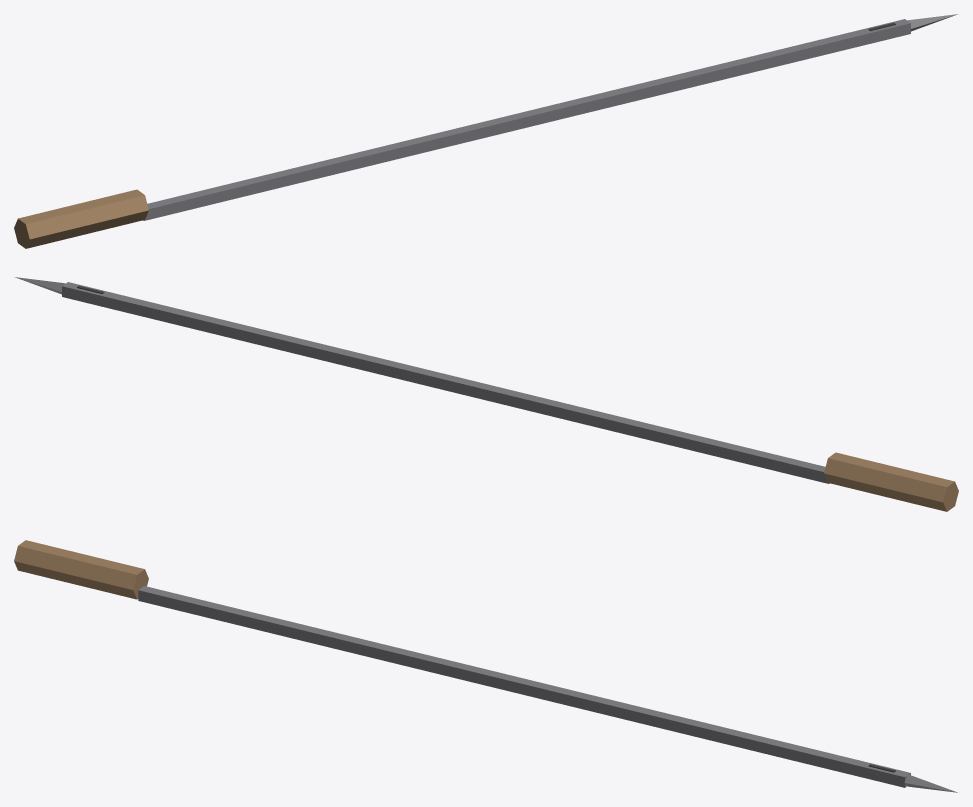
Rendered from prop-thatching-needle.fbx.
3 views of the same model, one above another, from view 1: azimuth 30°, elevation 25°; view 2: azimuth 150°, elevation 25°; view 3: azimuth 330°, elevation 25° (orthographic).
Visible parts, largest first — view 1: prop-thatching-needle; view 2: prop-thatching-needle; view 3: prop-thatching-needle.
Part boxes in pixels (left/top/right/bottom): prop-thatching-needle: left=14, top=14, right=958, bottom=248; prop-thatching-needle: left=14, top=277, right=958, bottom=511; prop-thatching-needle: left=14, top=540, right=957, bottom=792.
Size of the model in its own units: 110 by 3.09 by 3.2.
